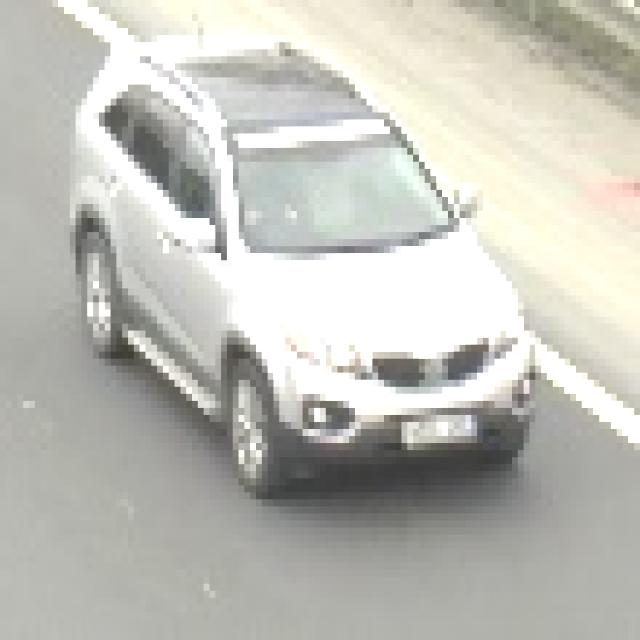SUV: (97, 58, 520, 476)
